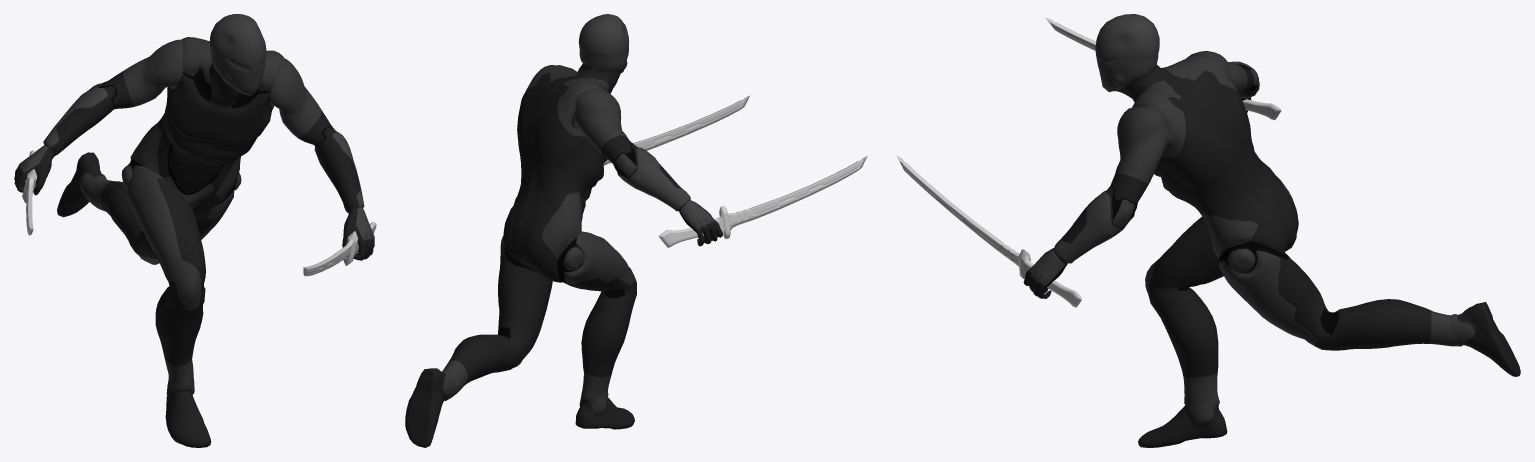
3 views of the same model, side by side, from view 1: azimuth 30°, elevation 25°; view 2: azimuth 150°, elevation 25°; view 3: azimuth 270°, elevation 25° (orthographic). The views are drawn at different scales.
Visible parts, largest first — view 1: Cyborg_Ninja_Killer, Sword_l, Sword_l001; view 2: Cyborg_Ninja_Killer, Sword_l001, Sword_l; view 3: Cyborg_Ninja_Killer, Sword_l, Sword_l001.
Boxes of the visible parts, left/top/right/bottom form: Cyborg_Ninja_Killer: left=14, top=14, right=374, bottom=447; Sword_l: left=303, top=222, right=376, bottom=276; Sword_l001: left=22, top=150, right=37, bottom=235; Cyborg_Ninja_Killer: left=405, top=14, right=722, bottom=447; Sword_l001: left=658, top=156, right=867, bottom=247; Sword_l: left=603, top=95, right=750, bottom=165; Cyborg_Ninja_Killer: left=1023, top=14, right=1520, bottom=447; Sword_l: left=896, top=155, right=1081, bottom=307; Sword_l001: left=1045, top=17, right=1281, bottom=120.
Bounding box in the file's own units: 140 × 157 × 201.
